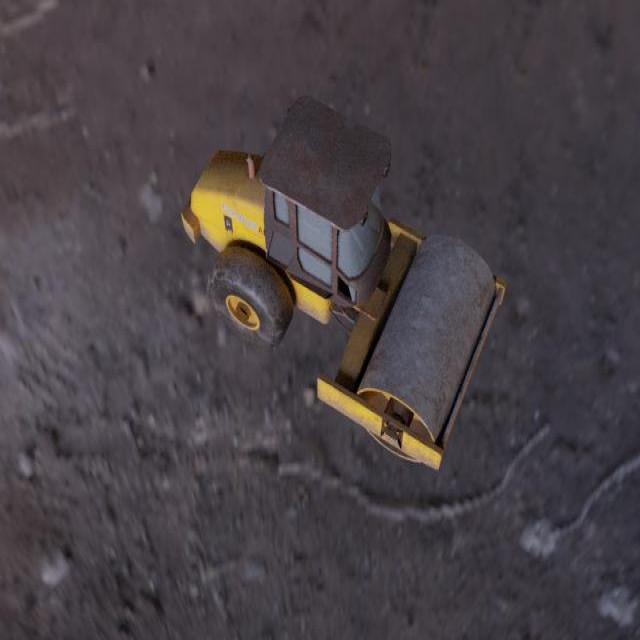Roller: (180, 93, 506, 470)
